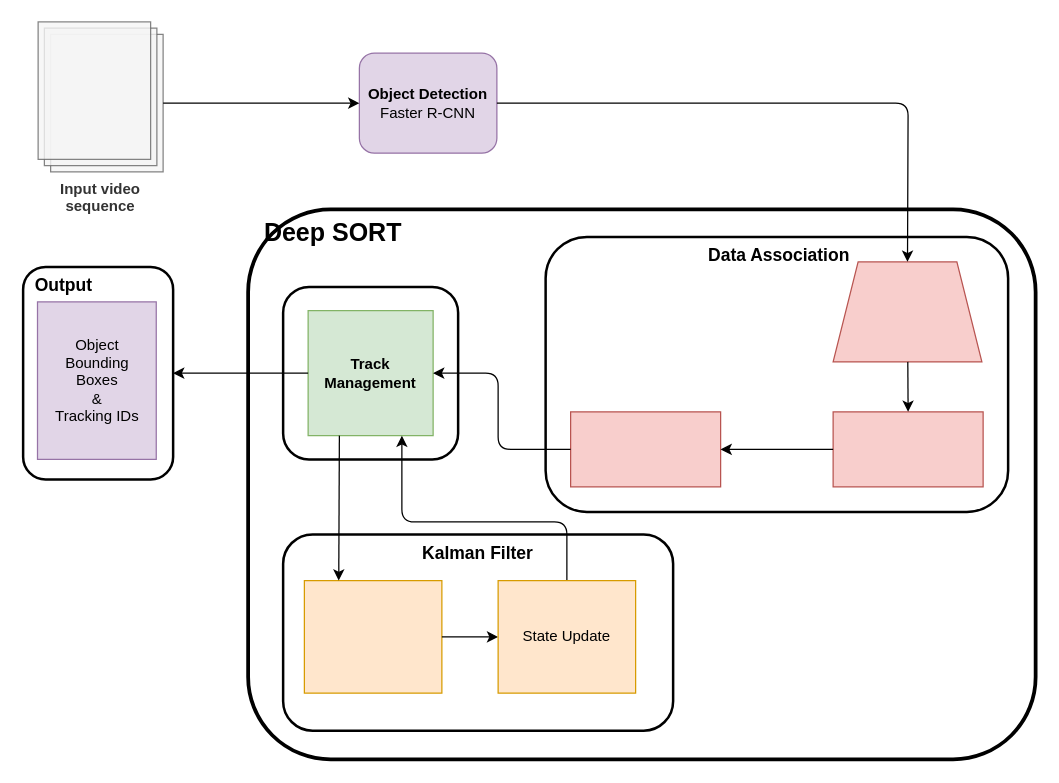
Some shapes in this 1059 by 783 pixel diagram are drawn without their labels. The shapes that lost their labels are listed below. From the top down, each one's centre as x and y in pixels, then its label:
the point at 907,311: Deep Appearance Descriptor
the point at 645,449: Matching Cascade
the point at 907,449: Hungarian algorithm
the point at 372,636: State Prediction
